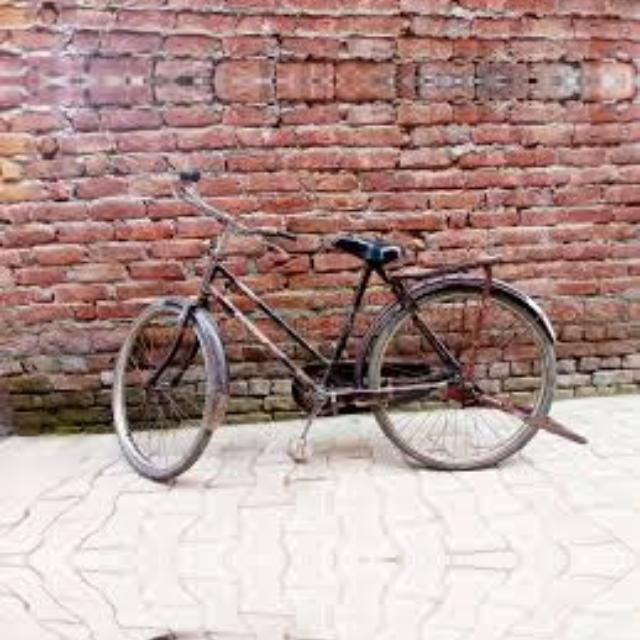obstacle: (107, 166, 578, 492), (106, 626, 577, 640)
